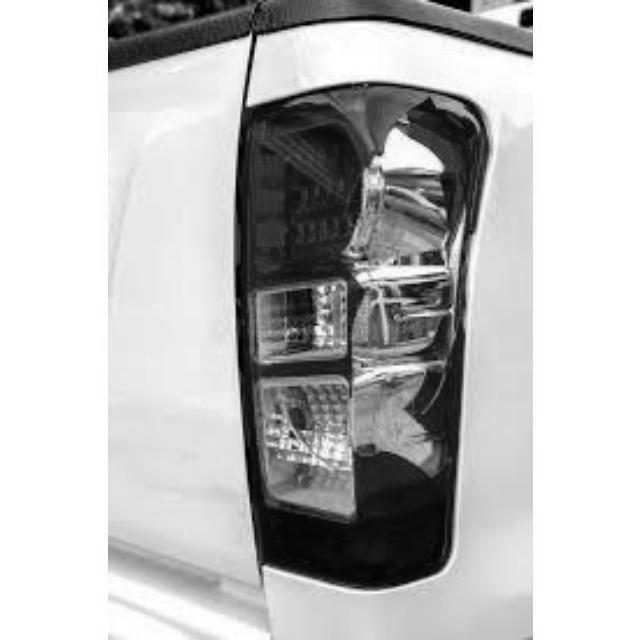Taillight-Damage: (199, 64, 482, 587)
